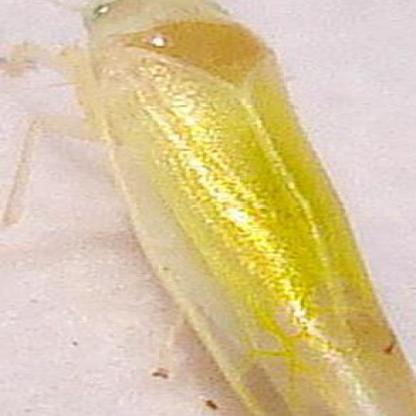green-leafhopper: (77, 3, 400, 416)
